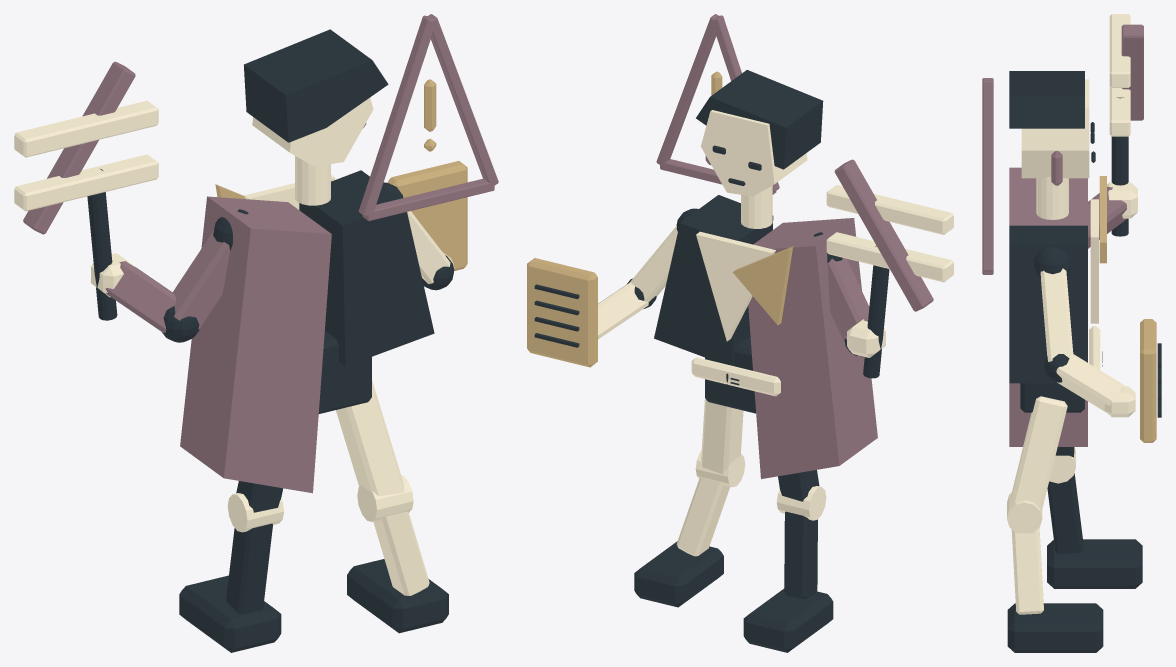
The picture shows the model from 3 angles, left to right: view 1: azimuth 30°, elevation 25°; view 2: azimuth 150°, elevation 25°; view 3: azimuth 270°, elevation 25°; orthographic projection. The views are drawn at different scales.
Parts seen in each view (by area): view 1: left_long_blazer, right_short_blazer, asymmetric_bang, left_shoe, right_shoe, right_thigh, correction_pad, not_equal_upper, not_equal_lower, not_equal_slash, left_shin, left_upper_arm (+16 smaller); view 2: left_long_blazer, right_short_blazer, correction_pad, asymmetric_bang, face_shape, left_shoe, right_shoe, shirt_triangle, not_equal_slash, left_shin, right_thigh, right_shin (+17 smaller); view 3: right_short_blazer, left_long_blazer, right_shoe, asymmetric_bang, left_shoe, right_thigh, face_shape, right_shin, error_triangle_1, right_upper_arm, left_shin, correction_pad (+18 smaller).
Boxes of the visible parts, left/top/right/bottom form: left_long_blazer: left=180, top=196, right=331, bottom=493; right_short_blazer: left=299, top=170, right=434, bottom=366; asymmetric_bang: left=244, top=29, right=388, bottom=142; left_shoe: left=179, top=575, right=281, bottom=652; right_shoe: left=347, top=559, right=448, bottom=633; right_thigh: left=336, top=380, right=403, bottom=496; correction_pad: left=387, top=161, right=467, bottom=270; not_equal_upper: left=14, top=100, right=158, bottom=157; not_equal_lower: left=14, top=154, right=158, bottom=211; not_equal_slash: left=23, top=61, right=135, bottom=234; left_shin: left=226, top=523, right=272, bottom=614; left_upper_arm: left=172, top=229, right=229, bottom=329; left_long_blazer: left=748, top=218, right=877, bottom=479; right_short_blazer: left=654, top=195, right=773, bottom=365; correction_pad: left=527, top=258, right=597, bottom=367; asymmetric_bang: left=696, top=70, right=823, bottom=169; face_shape: left=701, top=110, right=807, bottom=196; left_shoe: left=743, top=588, right=833, bottom=652; right_shoe: left=634, top=541, right=723, bottom=607; shirt_triangle: left=696, top=231, right=775, bottom=341; not_equal_slash: left=834, top=159, right=933, bottom=311; left_shin: left=784, top=511, right=817, bottom=598; right_thigh: left=701, top=398, right=743, bottom=474; right_shin: left=676, top=477, right=729, bottom=556; right_short_blazer: left=1009, top=225, right=1087, bottom=383; left_long_blazer: left=1009, top=167, right=1087, bottom=446; right_shoe: left=1007, top=603, right=1103, bottom=652; asymmetric_bang: left=1009, top=71, right=1084, bottom=128; left_shoe: left=1047, top=539, right=1142, bottom=588; right_thigh: left=1010, top=396, right=1067, bottom=512; face_shape: left=1021, top=79, right=1089, bottom=178; right_shin: left=1011, top=527, right=1043, bottom=614; error_triangle_1: left=982, top=80, right=993, bottom=271; right_upper_arm: left=1040, top=268, right=1073, bottom=361; left_shin: left=1047, top=473, right=1082, bottom=553; correction_pad: left=1140, top=319, right=1156, bottom=442.
Bounding box in the file's own units: 1.71 × 2.2 × 0.637.
